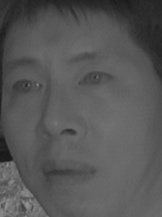eye: (76, 69, 117, 93), (7, 76, 45, 98)
mouth: (38, 154, 98, 191)
